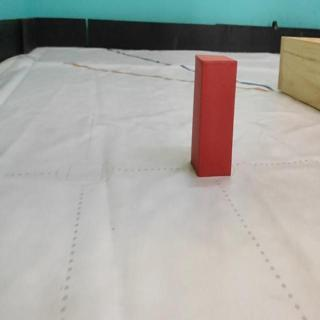redbox: (191, 53, 238, 177)
